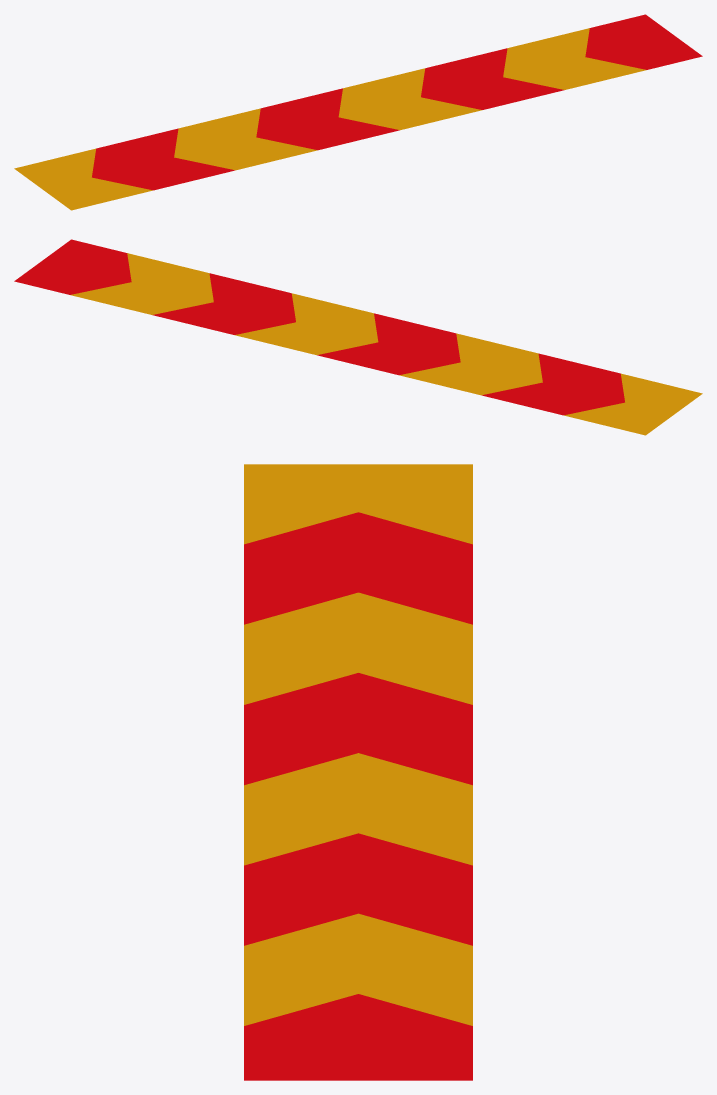
Rendered from Travellator.fbx.
3 renders of one model, top to bottom at view 1: azimuth 30°, elevation 25°; view 2: azimuth 150°, elevation 25°; view 3: azimuth 270°, elevation 25°, orthographic. The views are drawn at different scales.
Visible parts, largest first — view 1: Plane; view 2: Plane; view 3: Plane.
Boxes of the visible parts, bbox=[...] form: Plane: bbox=[14, 14, 702, 210]; Plane: bbox=[14, 239, 702, 435]; Plane: bbox=[244, 464, 472, 1080].
Size of the model in its own units: 1272 by 3.26e-05 by 200.
